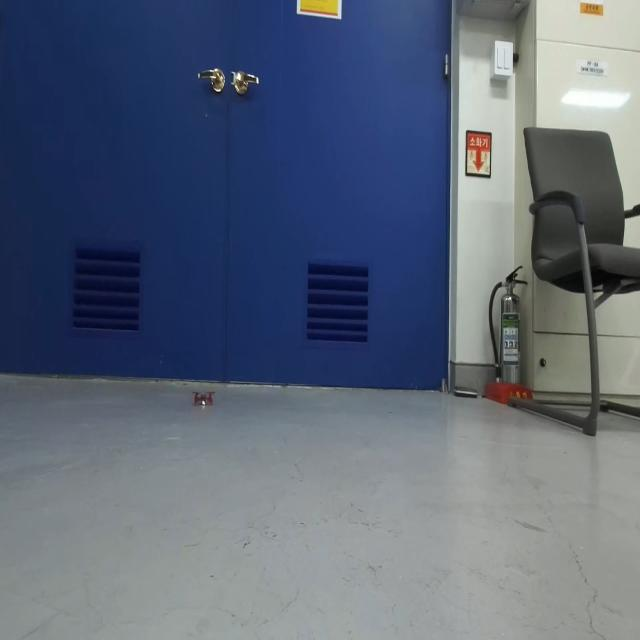crazyflie: (190, 384, 217, 413)
